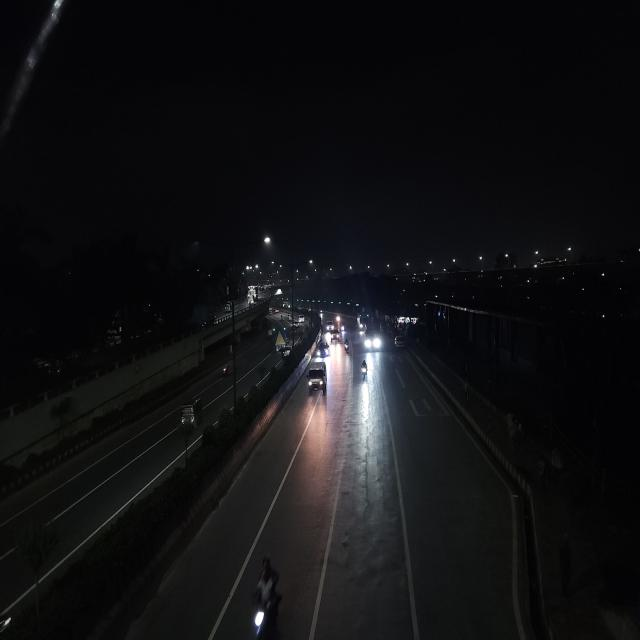bus: (364, 315, 382, 353)
car: (306, 359, 329, 395), (316, 338, 330, 359), (393, 331, 406, 350), (330, 330, 340, 345)
cng: (178, 395, 205, 434), (225, 332, 242, 356)
motorcycle: (246, 552, 286, 638), (360, 357, 370, 383), (220, 360, 233, 380), (343, 339, 351, 356)
truck: (306, 359, 329, 395), (272, 327, 289, 351)
